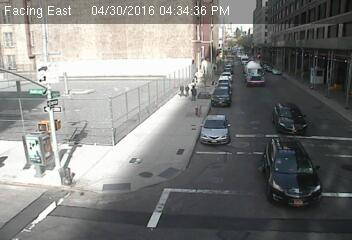neg: (279, 173, 314, 220), (317, 89, 345, 127), (30, 18, 57, 55), (233, 147, 258, 181), (35, 139, 58, 170), (122, 113, 143, 141), (80, 127, 100, 154), (150, 12, 169, 37), (285, 131, 303, 155), (291, 63, 307, 85)
